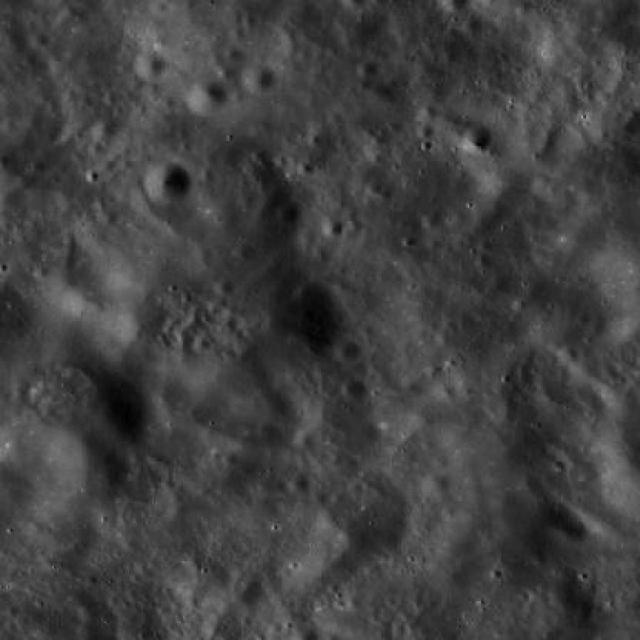crater: (253, 152, 541, 412), (79, 170, 347, 412), (0, 324, 149, 487), (321, 470, 412, 552), (45, 431, 130, 506), (308, 511, 383, 578), (478, 155, 534, 208), (274, 0, 328, 48), (288, 556, 339, 602), (522, 124, 570, 168), (144, 162, 192, 204), (554, 212, 602, 254), (0, 181, 29, 234), (188, 80, 228, 118), (338, 15, 376, 50), (227, 572, 266, 606), (244, 62, 280, 95), (417, 469, 452, 502), (135, 50, 168, 79), (354, 160, 386, 188), (544, 189, 576, 217), (461, 124, 492, 152), (333, 336, 361, 362), (91, 117, 118, 140), (342, 378, 368, 400), (76, 618, 101, 640), (294, 428, 318, 450), (277, 202, 300, 224), (288, 474, 312, 494), (232, 242, 254, 262), (76, 603, 98, 622), (214, 278, 234, 297), (358, 59, 378, 78), (324, 219, 344, 238), (402, 376, 422, 394), (100, 208, 120, 226), (30, 30, 50, 47), (558, 347, 577, 364), (462, 16, 480, 33), (422, 210, 440, 227), (436, 383, 454, 400), (418, 106, 436, 122), (300, 228, 318, 244), (430, 451, 448, 467), (88, 140, 105, 156), (225, 44, 242, 60), (210, 54, 227, 70)
